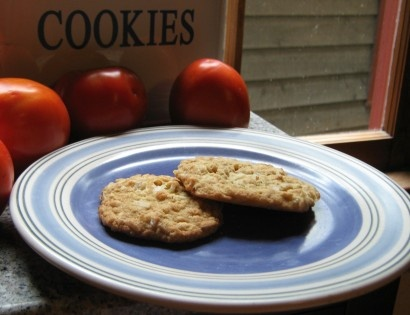background: (62, 43, 205, 119), (0, 32, 96, 99), (53, 27, 160, 62)
